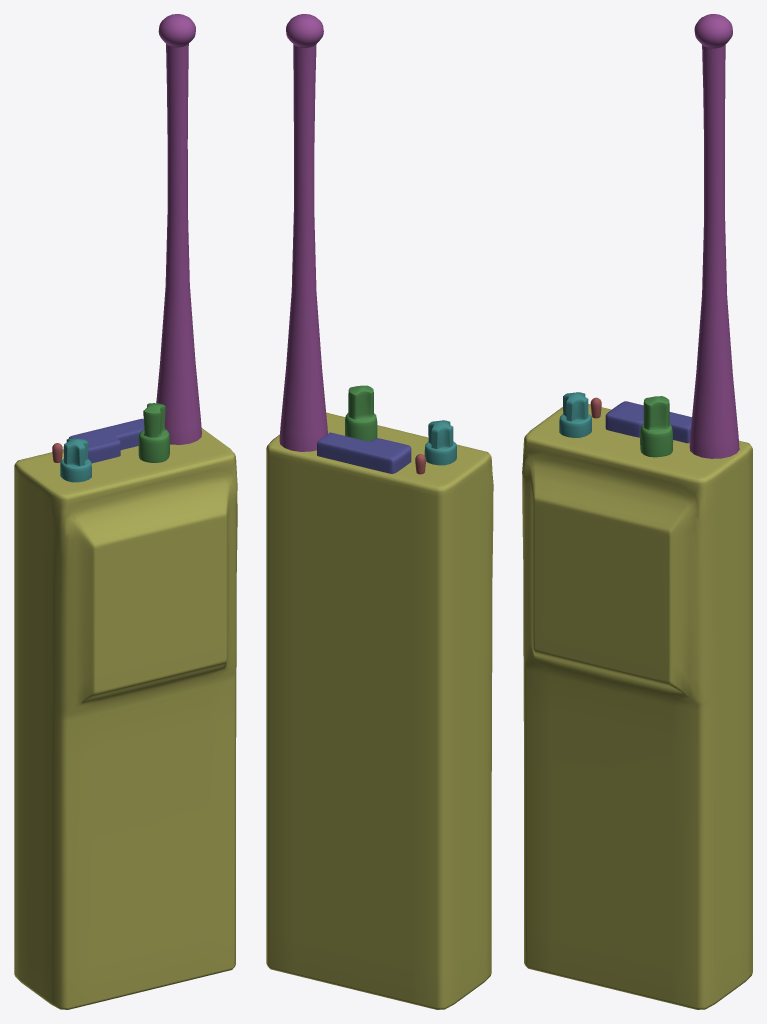
Rendered from Police Radio.fbx.
3 renders of one model, left to right at view 1: azimuth 30°, elevation 25°; view 2: azimuth 150°, elevation 25°; view 3: azimuth 330°, elevation 25°, orthographic. The views are drawn at different scales.
Visible parts, largest first — view 1: Police_Radio_Body, Police_Radio_Anthena, Police_Radio_Cover_Piece, Police_Radio_Knob2, Police_Radio_Knob1; view 2: Police_Radio_Body, Police_Radio_Anthena, Police_Radio_Cover_Piece, Police_Radio_Knob2, Police_Radio_Knob1; view 3: Police_Radio_Body, Police_Radio_Anthena, Police_Radio_Knob2, Police_Radio_Cover_Piece, Police_Radio_Knob1.
Boxes of the visible parts, x1,y1,x2,y2 form: Police_Radio_Body: [14, 428, 237, 1009]; Police_Radio_Anthena: [156, 14, 201, 444]; Police_Radio_Cover_Piece: [68, 418, 144, 463]; Police_Radio_Knob2: [138, 403, 169, 462]; Police_Radio_Knob1: [60, 438, 91, 482]; Police_Radio_Body: [266, 412, 493, 1009]; Police_Radio_Anthena: [279, 14, 327, 451]; Police_Radio_Cover_Piece: [317, 432, 411, 473]; Police_Radio_Knob2: [345, 385, 377, 441]; Police_Radio_Knob1: [424, 420, 456, 465]; Police_Radio_Body: [522, 404, 752, 1009]; Police_Radio_Anthena: [689, 14, 739, 458]; Police_Radio_Knob2: [640, 396, 673, 457]; Police_Radio_Cover_Piece: [605, 401, 691, 443]; Police_Radio_Knob1: [559, 392, 591, 437].
Size of the model in its own units: 12.71 by 63.16 by 7.49.
